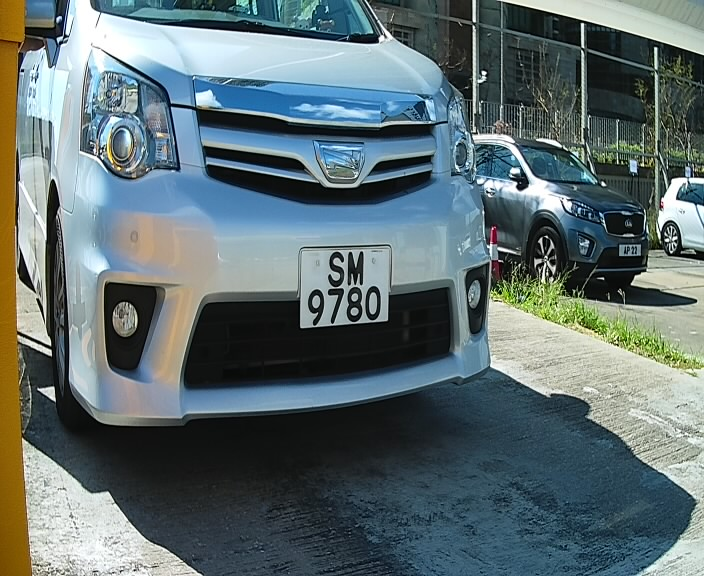Car: (2, 2, 524, 482)
License Plate: (295, 231, 399, 336)
